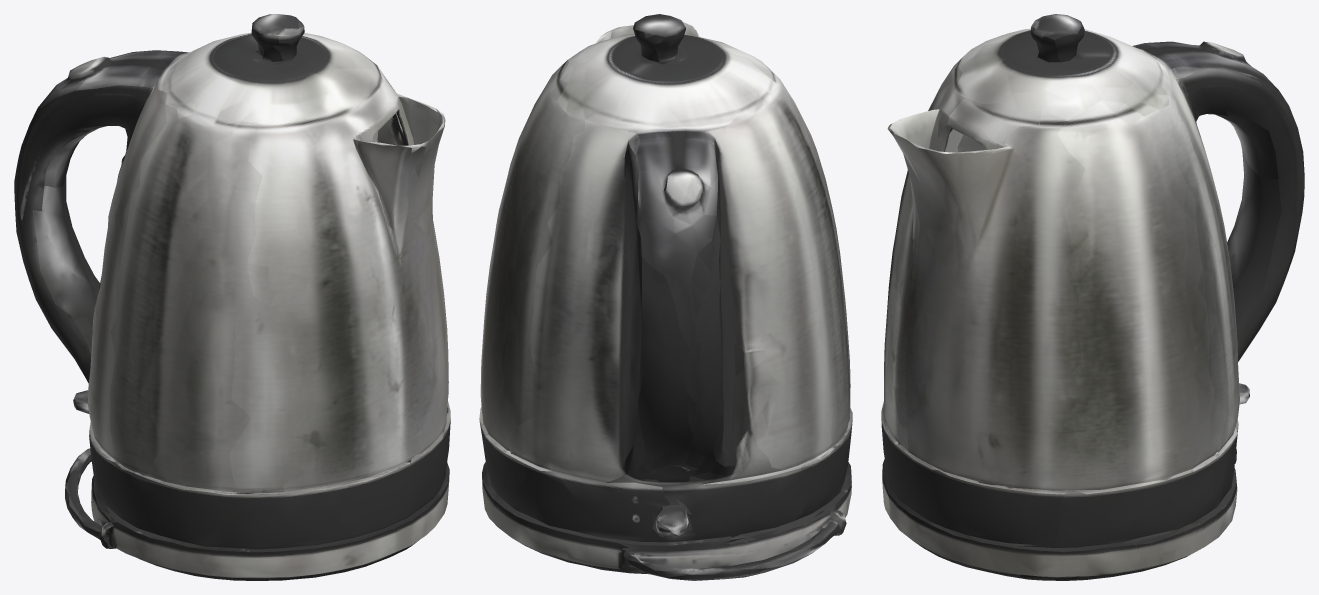
File: mundane_kettle.glb
3 views of the same model, side by side, from view 1: azimuth 30°, elevation 25°; view 2: azimuth 150°, elevation 25°; view 3: azimuth 270°, elevation 25° (orthographic).
Visible parts, largest first — view 1: geometry_0; view 2: geometry_0; view 3: geometry_0.
Boxes of the visible parts, <box> form: geometry_0: <box>14,14,450,580</box>; geometry_0: <box>479,14,852,580</box>; geometry_0: <box>881,14,1304,580</box>.
Bounding box in the file's own units: 0.1798 × 0.25 × 0.1945.
Materials: 1 (1 with a texture image).
